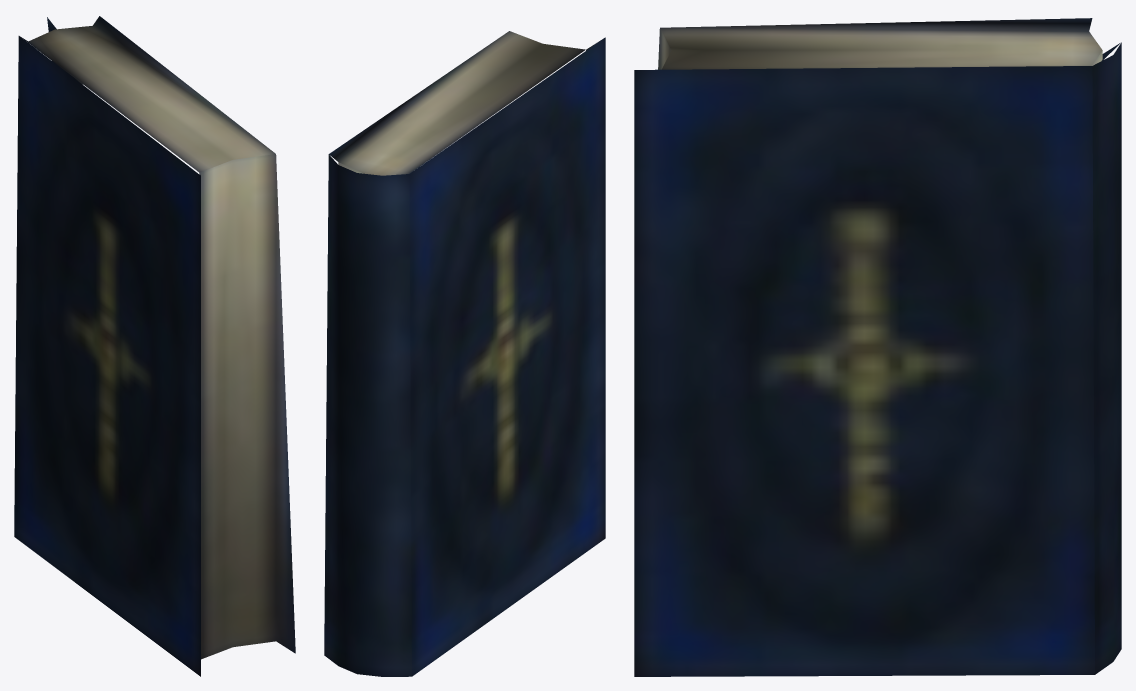
Rendered from clericBookR.glb.
3 views of the same model, side by side, from view 1: azimuth 30°, elevation 25°; view 2: azimuth 150°, elevation 25°; view 3: azimuth 270°, elevation 25° (orthographic). The views are drawn at different scales.
Visible parts, largest first — view 1: clericBookR; view 2: clericBookR; view 3: clericBookR.
Part boxes in pixels (bbox=[...]): clericBookR: bbox=[14, 16, 295, 676]; clericBookR: bbox=[324, 31, 605, 676]; clericBookR: bbox=[634, 18, 1121, 676].
Bounding box in the file's own units: 0.0735 × 0.3713 × 0.2703.
1 material, 1 textured.
